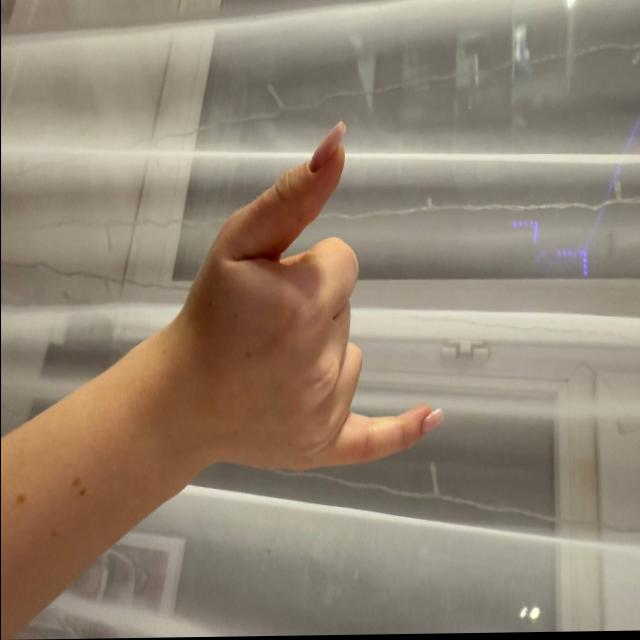u: (182, 113, 456, 518)
